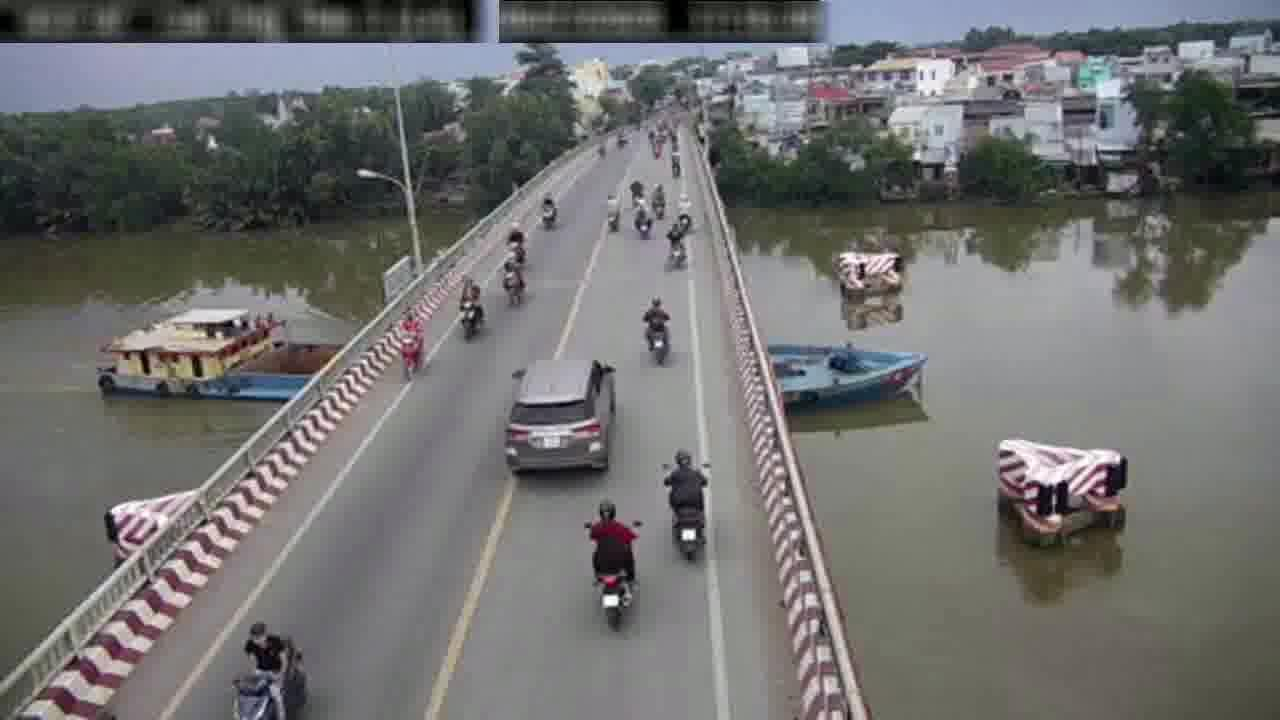car: (501, 349, 618, 478)
motorbike: (586, 491, 642, 631), (232, 619, 306, 720), (662, 443, 712, 568), (641, 291, 671, 366), (396, 308, 424, 380), (457, 275, 483, 343), (501, 251, 527, 309)
